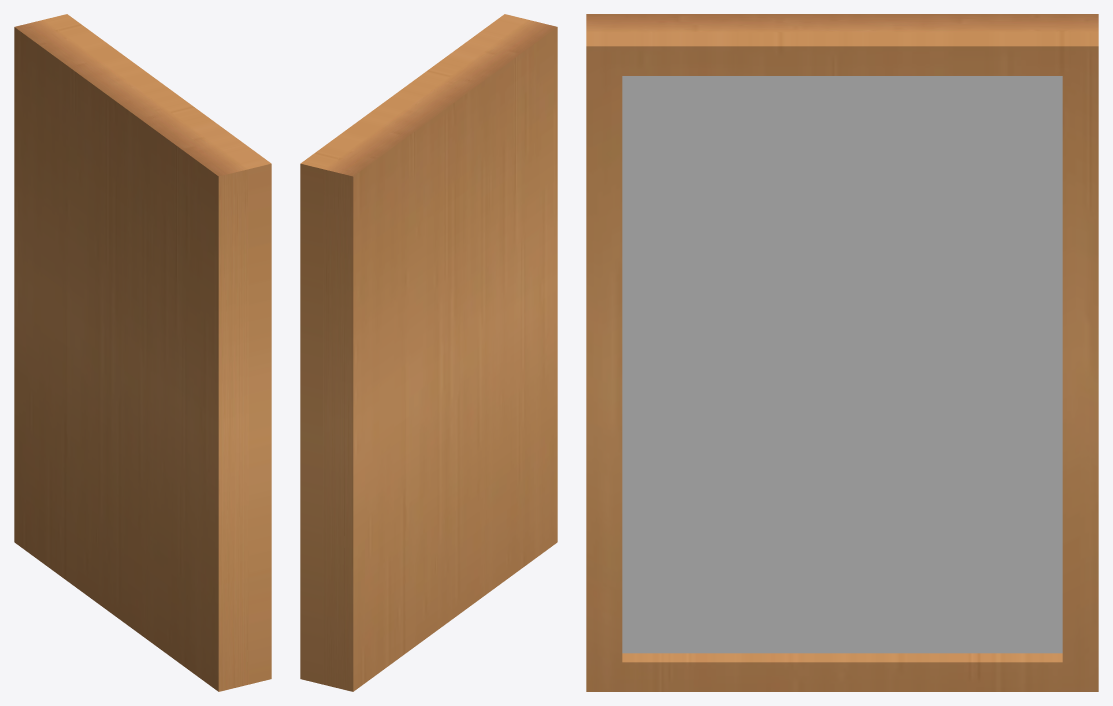
Rendered from Poster Frame 1.fbx.
3 views of the same model, side by side, from view 1: azimuth 30°, elevation 25°; view 2: azimuth 150°, elevation 25°; view 3: azimuth 270°, elevation 25° (orthographic). The views are drawn at different scales.
Visible parts, largest first — view 1: Cube.001; view 2: Cube.001; view 3: Plane, Cube.001.
Boxes of the visible parts, x1=… form: Cube.001: x1=14, y1=14, x2=271, y2=691; Cube.001: x1=300, y1=14, x2=557, y2=691; Plane: x1=622, y1=76, x2=1062, y2=653; Cube.001: x1=586, y1=14, x2=1098, y2=691.
Size of the model in its own units: 115 by 1074 by 772.
1 material, 1 textured.
